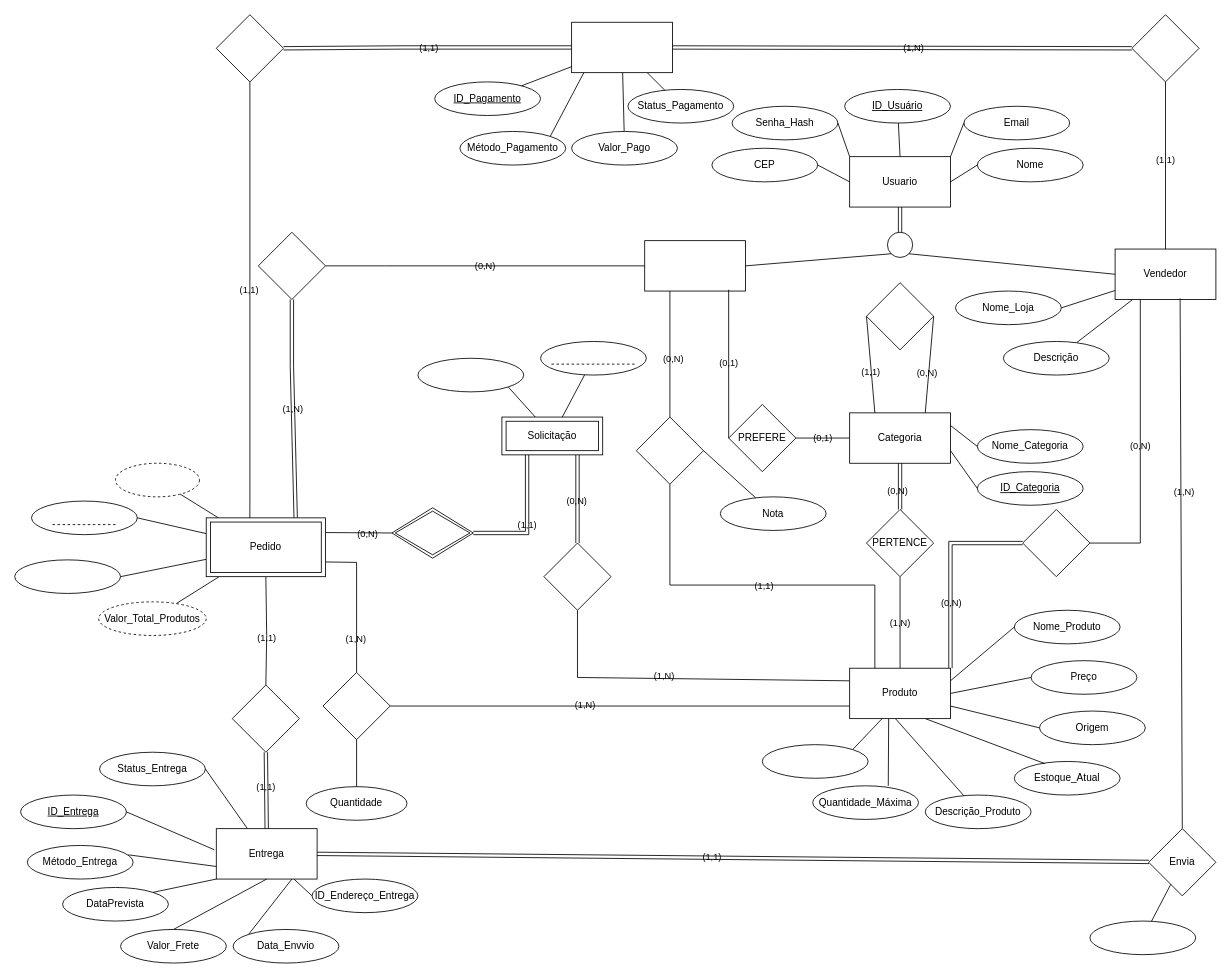
The diagram is 1231 pixels wide and 978 high, and some of its shapes have lost their labels. The shapes that lost their labels are listed below. From the top down, each one's centre as x and y in pixels, then its label:
At (249,48): "Paga".
At (621,47): "Pagamento".
At (1165,48): "Recebe".
At (291,265): "FAZ".
At (695,265): "Comprador".
At (900,316): "É PAI DE".
At (470,374): "Tipo_Solicitação".
At (593,358): "Data_Solicitação".
At (669,450): "AVALIA".
At (157,479): "Valor_Total".
At (84,517): "Data_Novo".
At (432,532): "tem".
At (1056,543): "VENDE".
At (67,576): "Status_Pedido".
At (577,576): "Associa".
At (265,718): "PRECISA".
At (356,706): "Contém".
At (814,761): "ID_Produto".
At (1142,937): "Endereço".
